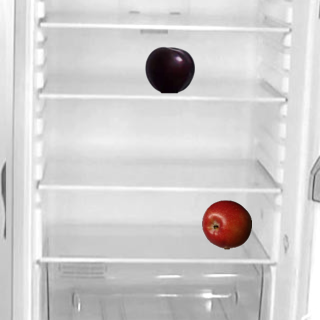Apple Braeburn: (201, 199, 251, 249)
Cherry Wax Black: (144, 44, 194, 94)
